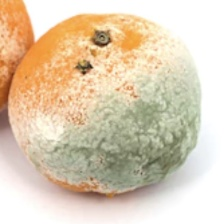orange: (39, 38, 174, 220)
